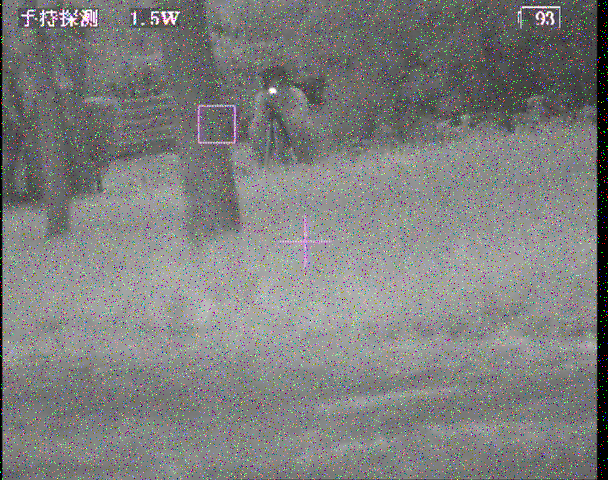my: (266, 85, 279, 98)
